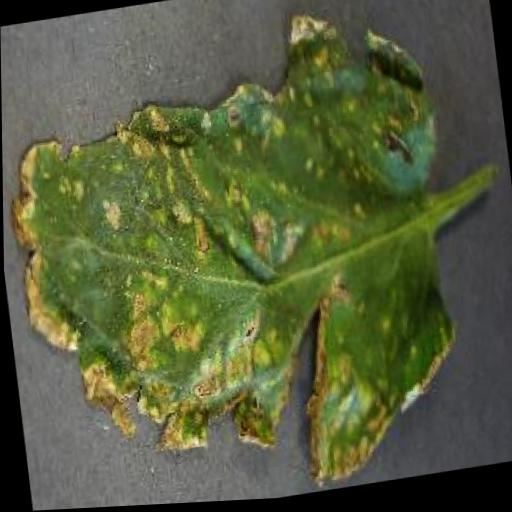Bacterial Spot: (0, 0, 495, 512)
